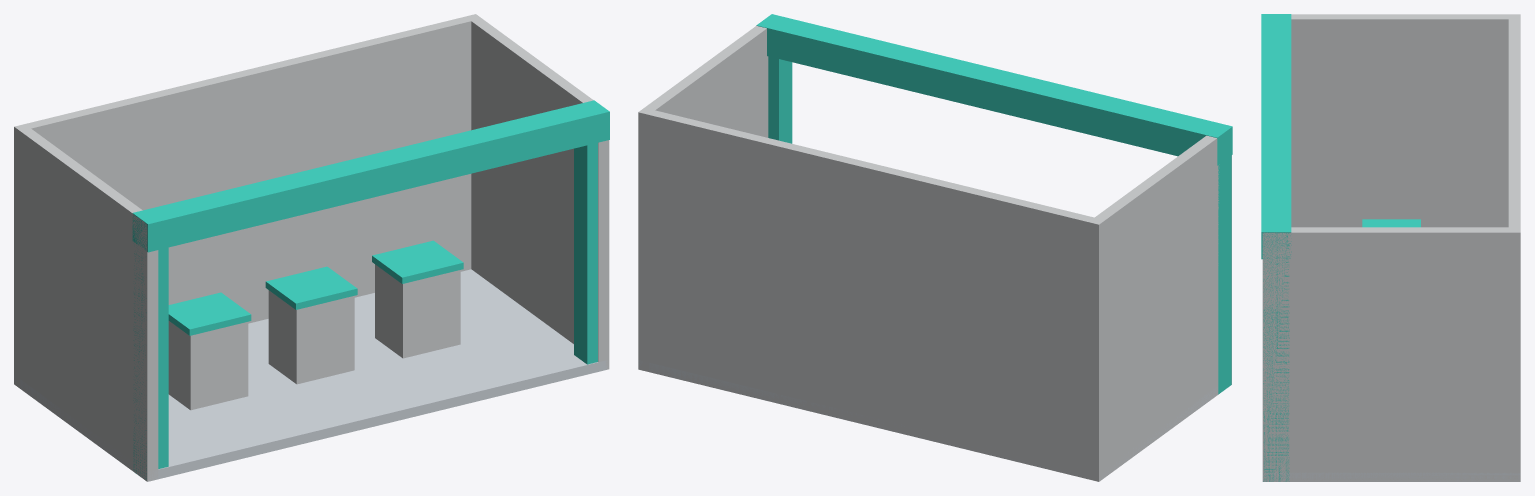
The picture shows the model from 3 angles, left to right: view 1: azimuth 30°, elevation 25°; view 2: azimuth 150°, elevation 25°; view 3: azimuth 270°, elevation 25°; orthographic projection. The views are drawn at different scales.
Parts seen in each view (by area): view 1: Exhibition Booth Concept; view 2: Exhibition Booth Concept; view 3: Exhibition Booth Concept.
Part boxes in pixels (left/top/right/bottom): Exhibition Booth Concept: left=14, top=14, right=609, bottom=481; Exhibition Booth Concept: left=638, top=14, right=1232, bottom=481; Exhibition Booth Concept: left=1261, top=14, right=1520, bottom=481.
Size of the model in its own units: 6 by 3.2 by 3.01.
